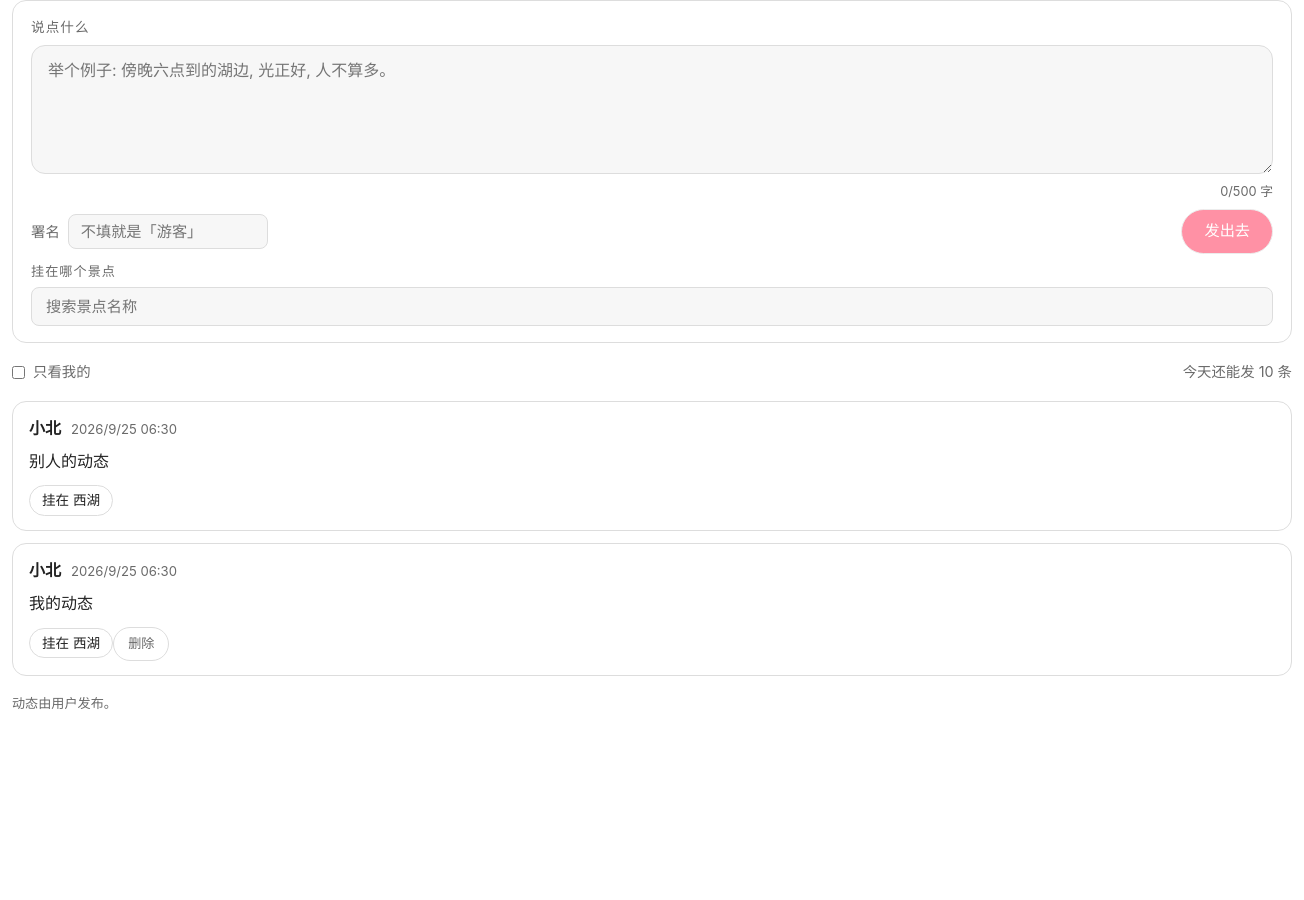
Test: PostsPage › 勾上「只看我的」只取自己的, 空的时候说法也不一样
This screenshot has width=1304, height=900.
Check: the text "我的动态" is shown, box [29,593,93,613]
What coordinates should you click on to do the following:
click the checkbox labelled "只看我的"
I would click on:
 (18, 372)
Its box is [12,366,25,379].
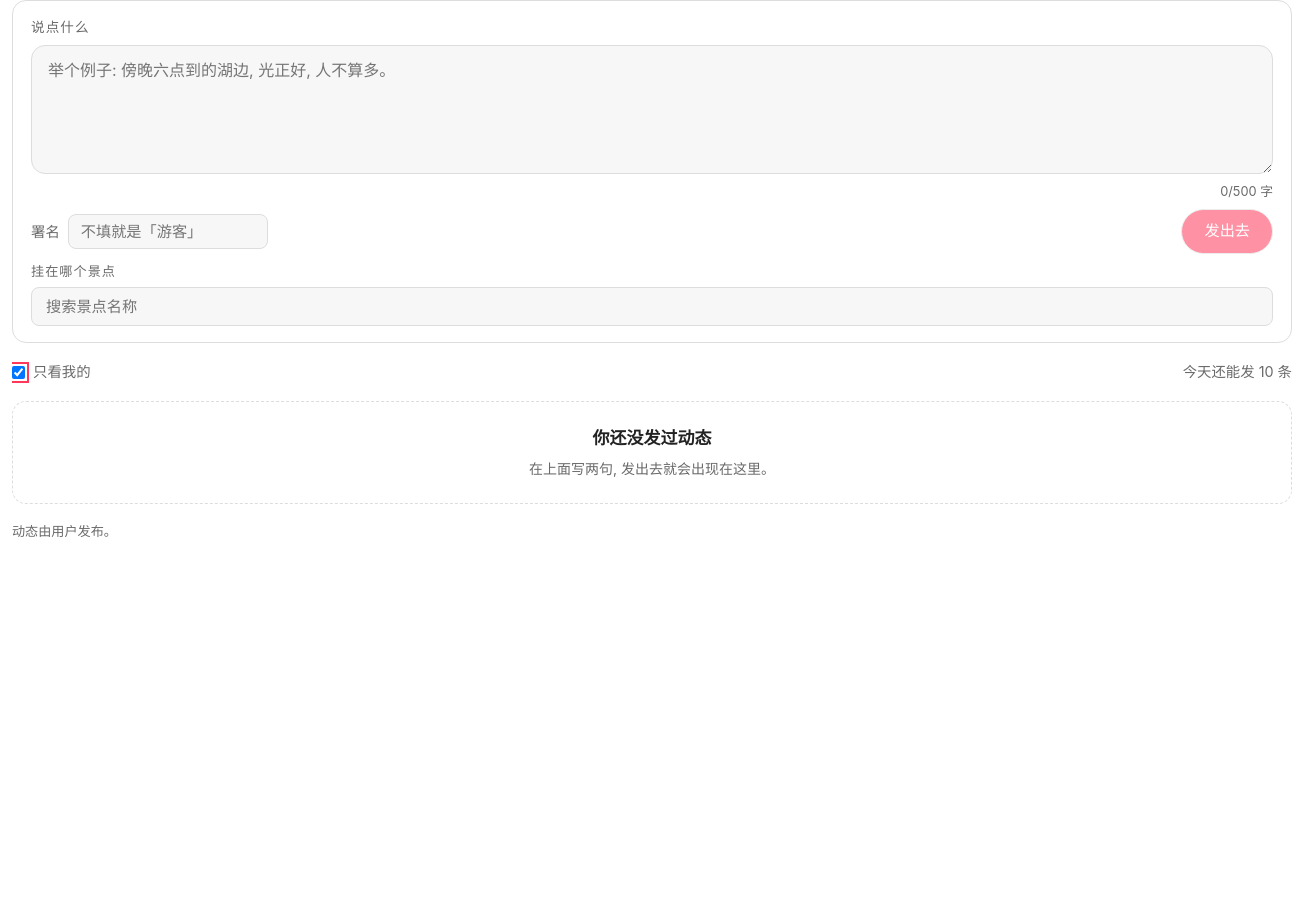
Check: the text "你还没发过动态" is shown, box [592,428,712,448]
